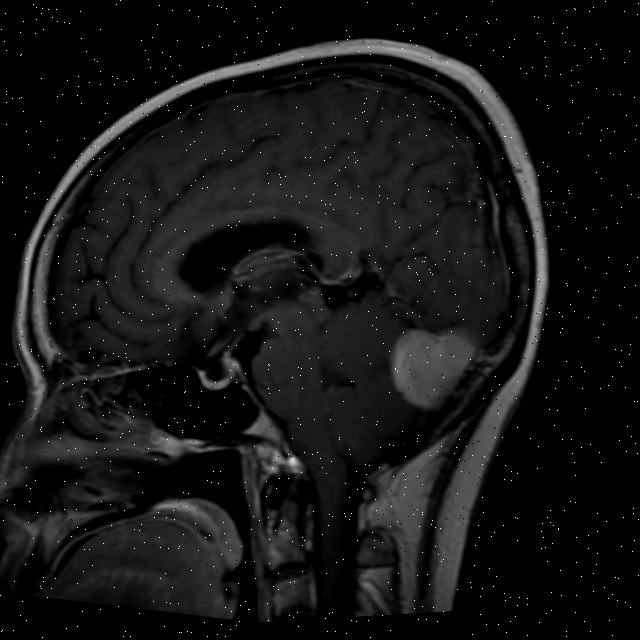Meningioma: (376, 310, 484, 425)
